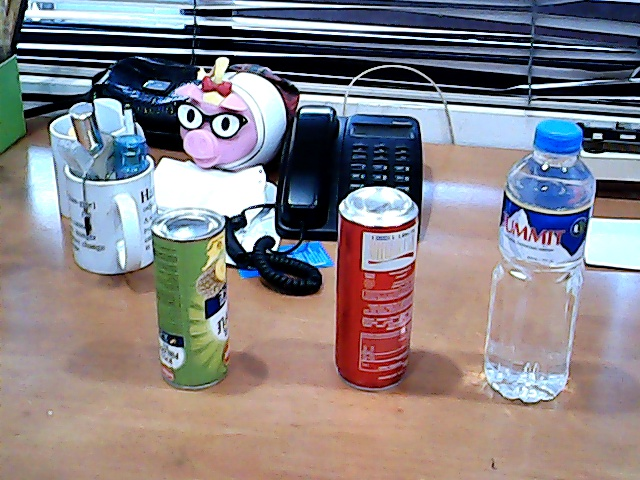Cola: (318, 175, 436, 408)
Pine Juice: (134, 201, 251, 402)
Summit Water: (471, 105, 610, 418)
